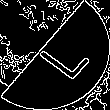L_NW: (23, 27, 87, 83)
